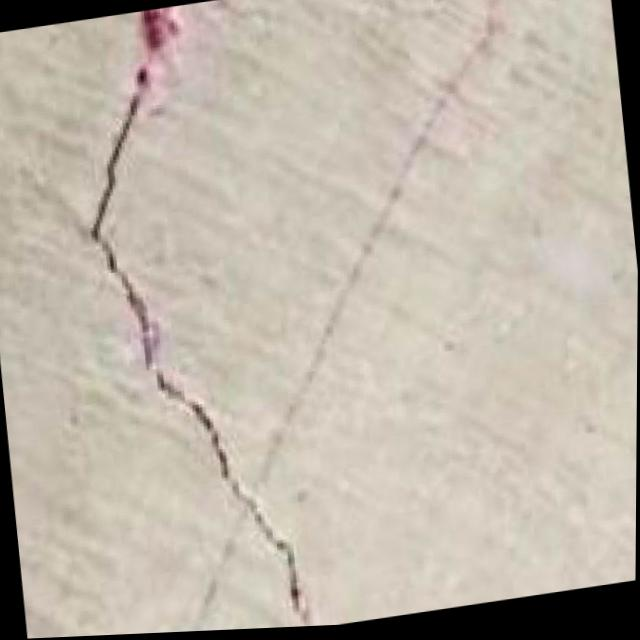Crack: (49, 0, 353, 638)
